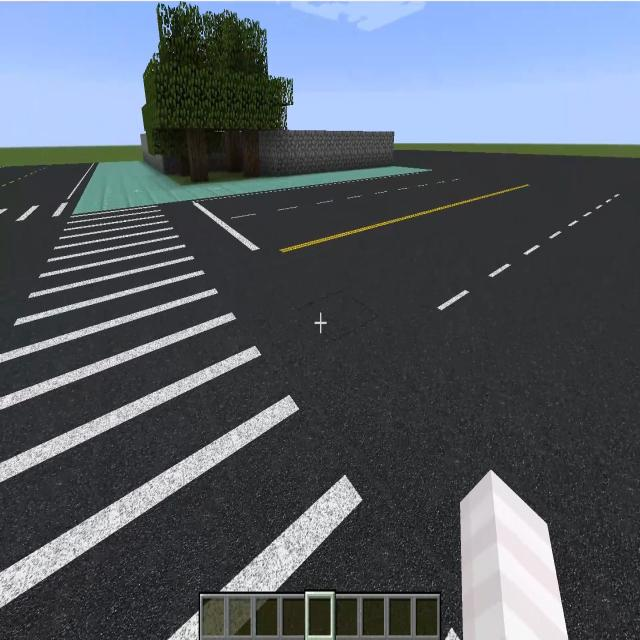crosswalk: (0, 198, 440, 631), (0, 200, 78, 221)
road: (166, 166, 638, 639), (2, 221, 61, 342), (1, 164, 95, 196)
sidewalk: (73, 161, 431, 213)
